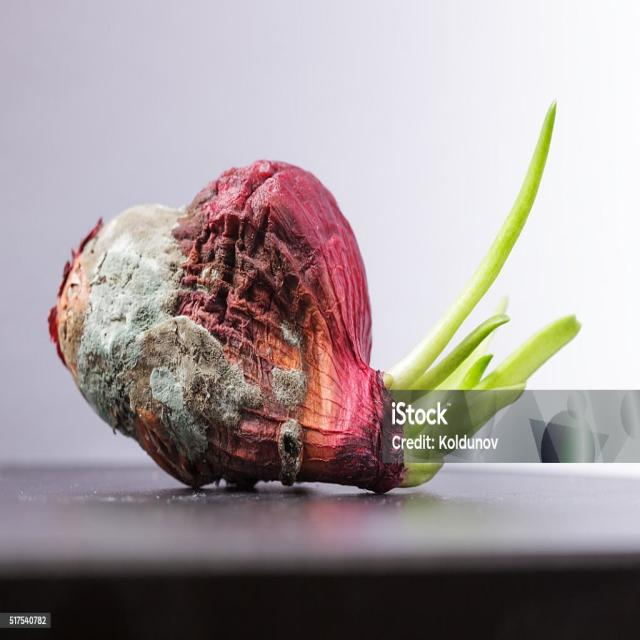rotten: (41, 153, 375, 530)
